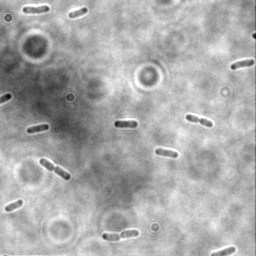Dividing: (39, 157, 72, 181), (102, 228, 141, 243), (185, 114, 215, 129), (22, 5, 52, 16)
Rod: (229, 57, 255, 71), (154, 147, 180, 159), (26, 123, 50, 135), (4, 199, 24, 213), (210, 245, 237, 255), (68, 7, 88, 20), (113, 120, 138, 129)
